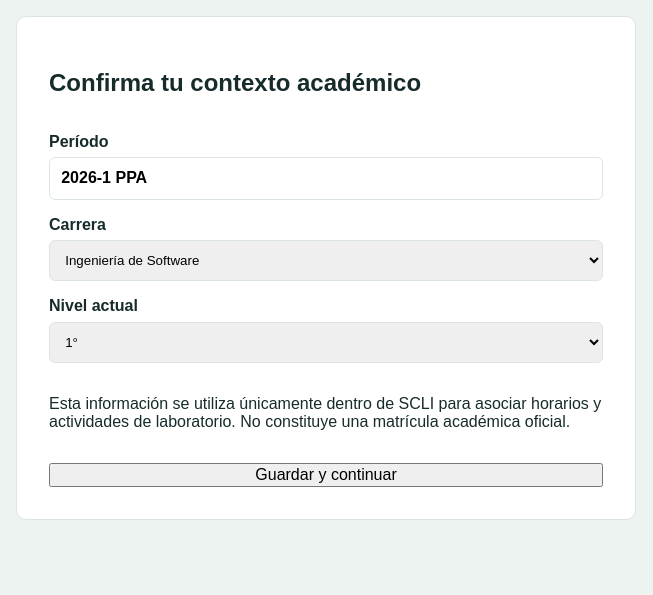
StudentContextGate › muestra mensaje de error si el guardado falla
Expected: the heading "Confirma tu contexto académico" is shown, [49,69,421,96]
Click the button "Guardar y continuar" at (326, 475), box [49,463,603,487]
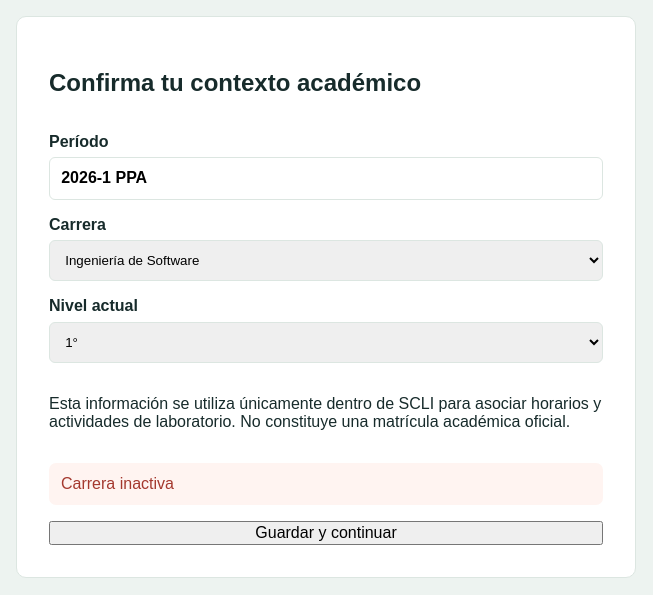
Result: the message reads "Carrera inactiva" at [61,475,174,492]
